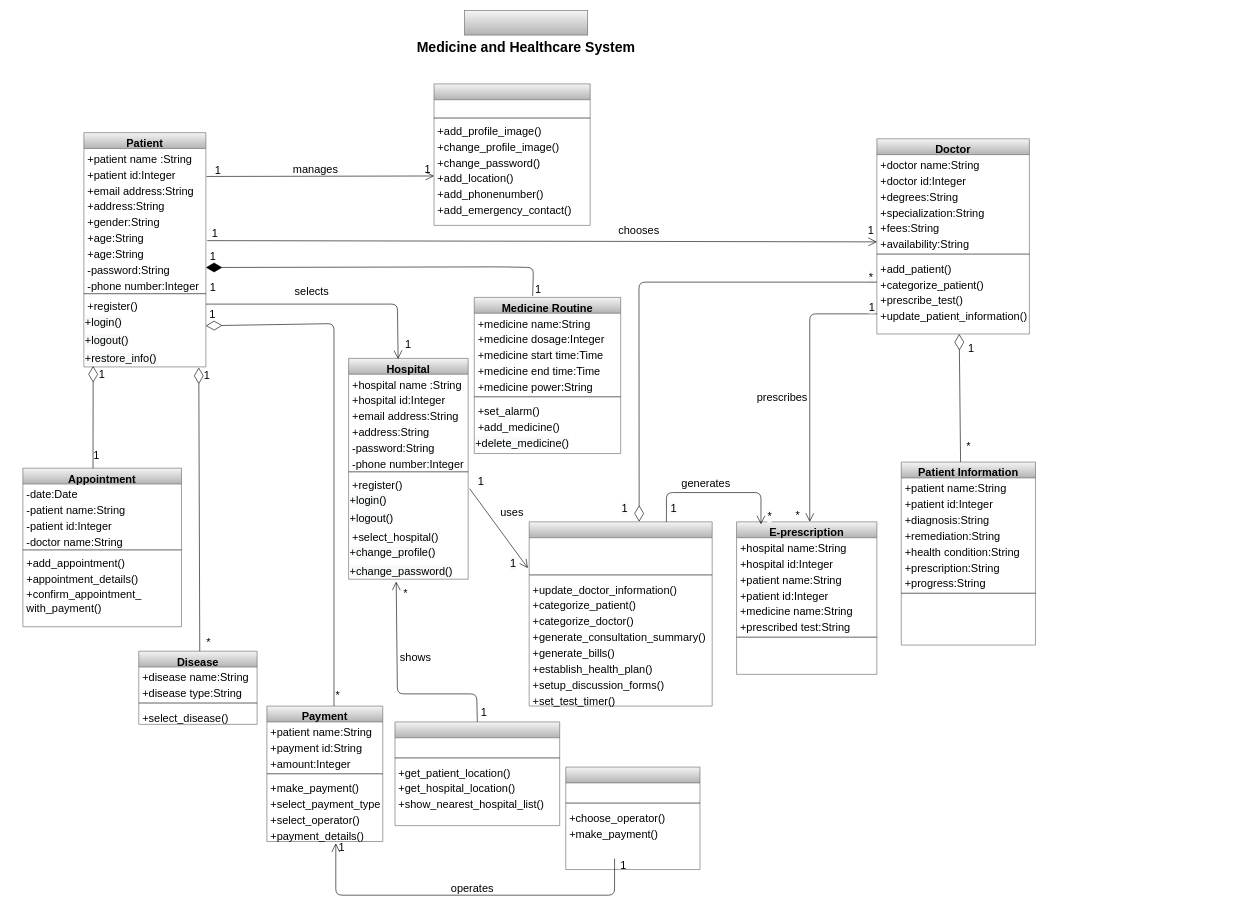
The diagram is 1260 pixels wide and 914 high, and some of its shapes have lost their labels. Here are the shapes that lost their labels. From the top down, the box of each, then its label:
(464, 10, 588, 35): Class diagram
(433, 83, 590, 225): User Profile Management
(529, 521, 712, 706): Application System
(394, 721, 560, 826): Gps
(565, 766, 700, 870): Payment gateway
